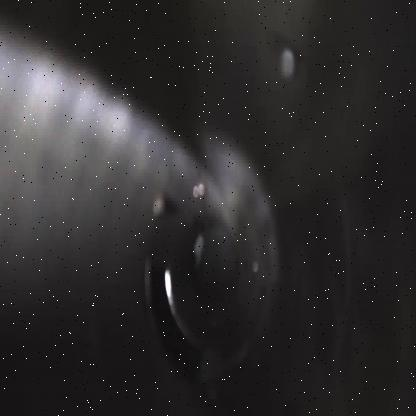Crack2: (139, 261, 203, 384)
